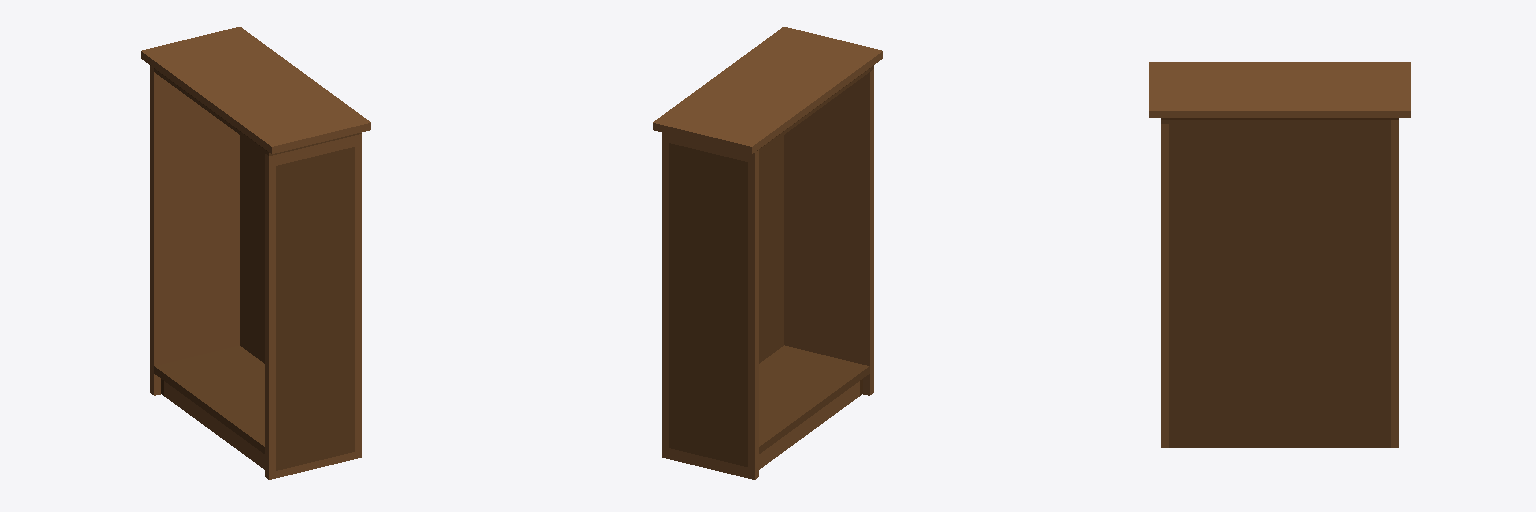
The picture shows the model from 3 angles: view 1: azimuth 30°, elevation 25°; view 2: azimuth 150°, elevation 25°; view 3: azimuth 270°, elevation 25°; orthographic projection.
Visible parts, largest first — view 1: object 1; view 2: object 1; view 3: object 1.
Part boxes in pixels (x1,y1,x2,y2): object 1: (141, 27, 370, 479); object 1: (653, 27, 882, 479); object 1: (1149, 62, 1410, 447).
Bounding box in the file's own units: 2.8 × 9.1 × 6.4.
Materials: 1 (1 with a texture image).